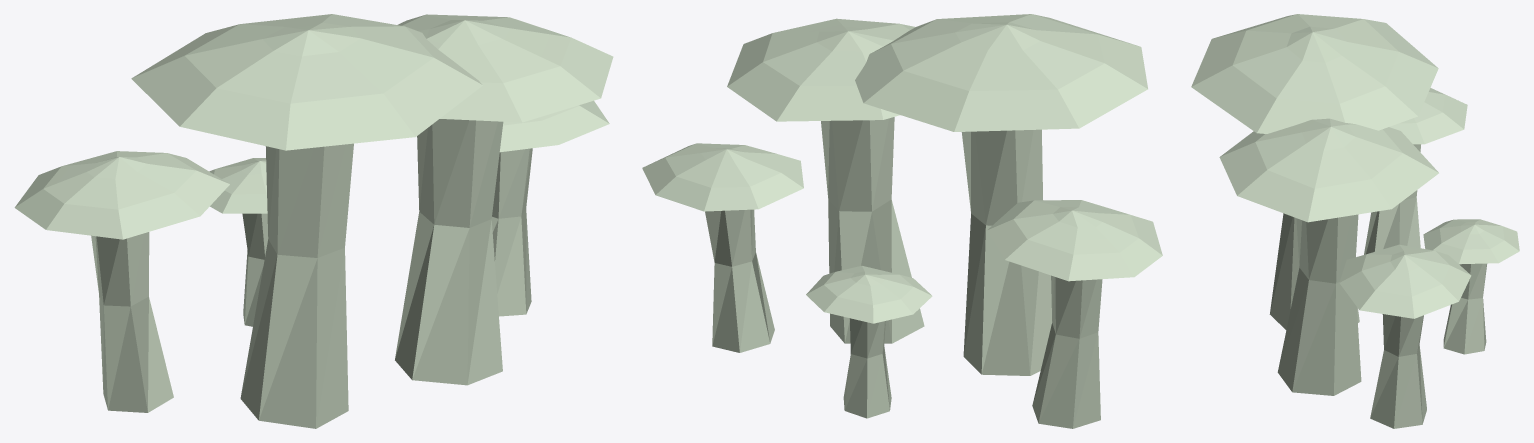
Rendered from cave-mushroom3.glb.
The picture shows the model from 3 angles, left to right: view 1: azimuth 30°, elevation 25°; view 2: azimuth 150°, elevation 25°; view 3: azimuth 270°, elevation 25°; orthographic projection. The views are drawn at different scales.
Visible parts, largest first — view 1: BlueBolete_Patch_C; view 2: BlueBolete_Patch_C; view 3: BlueBolete_Patch_C.
Boxes of the visible parts, left/top/right/bottom form: BlueBolete_Patch_C: left=14, top=14, right=613, bottom=428; BlueBolete_Patch_C: left=642, top=14, right=1162, bottom=428; BlueBolete_Patch_C: left=1191, top=14, right=1519, bottom=428.
Size of the model in its own units: 1.69 by 1.07 by 1.09.
